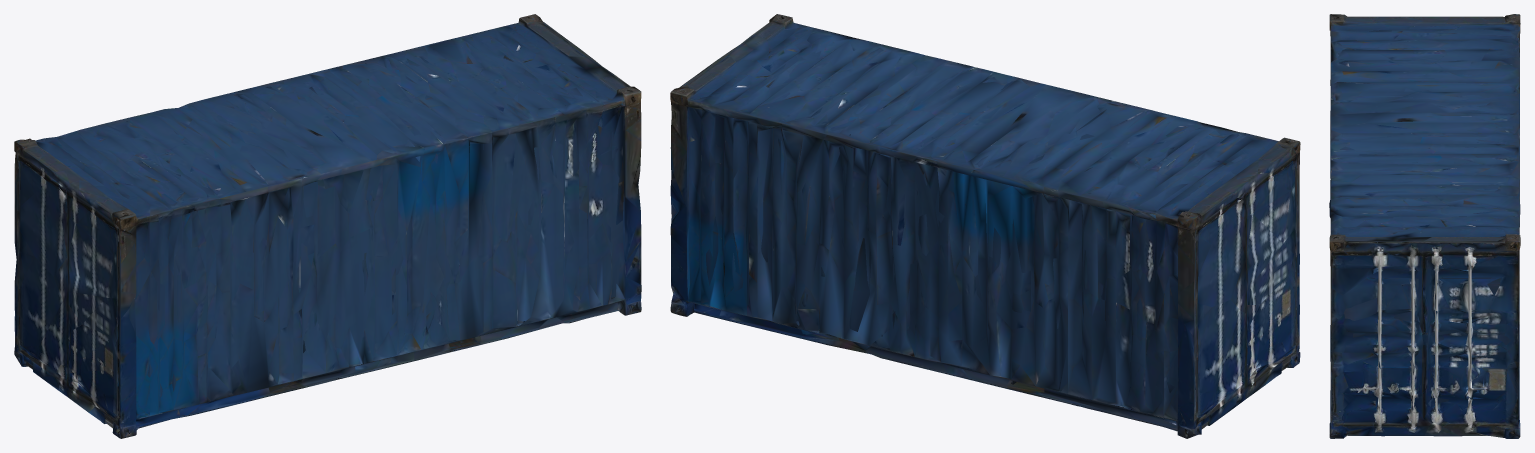
The model's file is container_blue.glb.
The picture shows the model from 3 angles, left to right: view 1: azimuth 30°, elevation 25°; view 2: azimuth 150°, elevation 25°; view 3: azimuth 270°, elevation 25°; orthographic projection. The views are drawn at different scales.
Bounding box in the file's own units: 1.9 × 0.7711 × 0.6745.
Materials: 1 (1 with a texture image).
